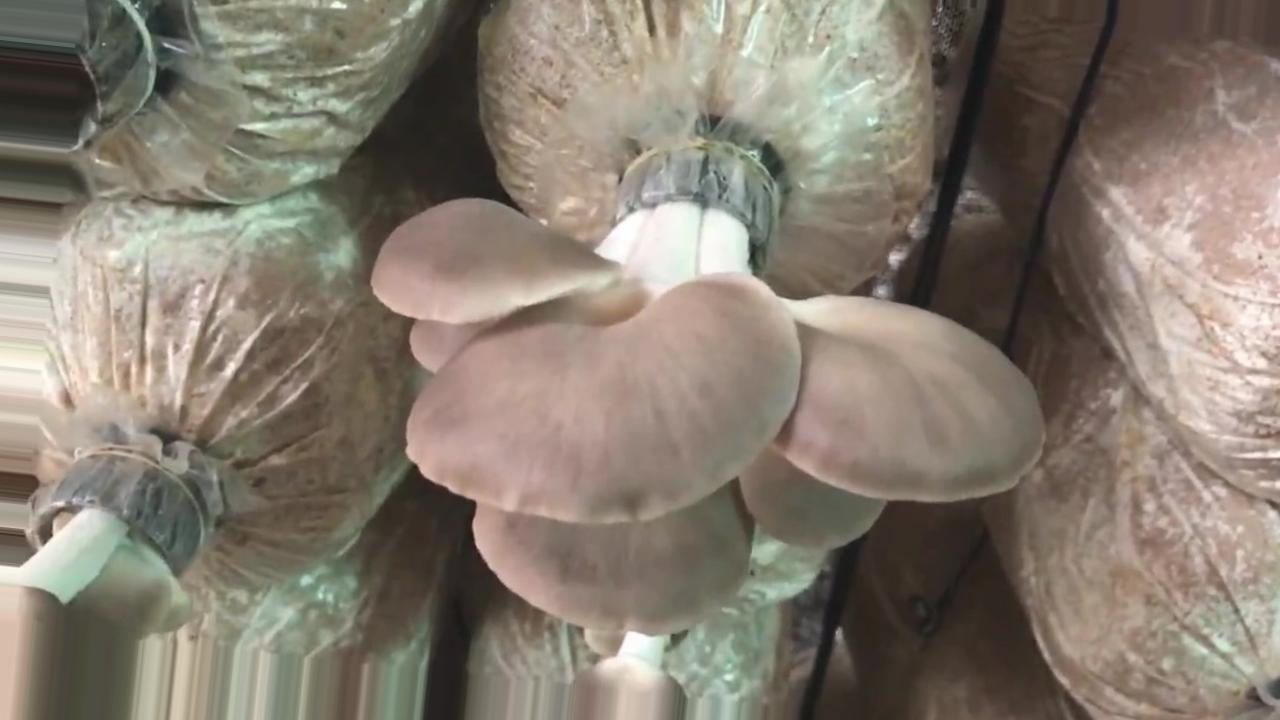nam: (370, 143, 1042, 635), (1, 446, 210, 720), (570, 630, 685, 719)
